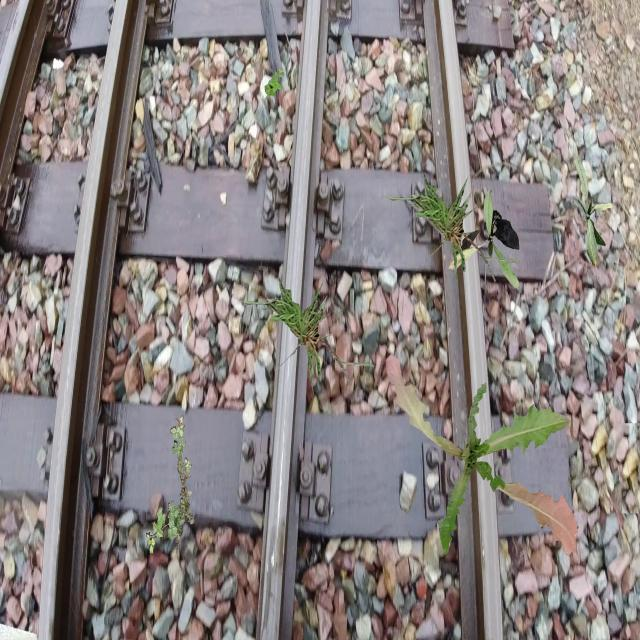Plant: (386, 354, 578, 556), (376, 174, 520, 294), (231, 278, 374, 398), (448, 189, 520, 288), (146, 416, 194, 554), (573, 157, 613, 267), (264, 68, 284, 100)
